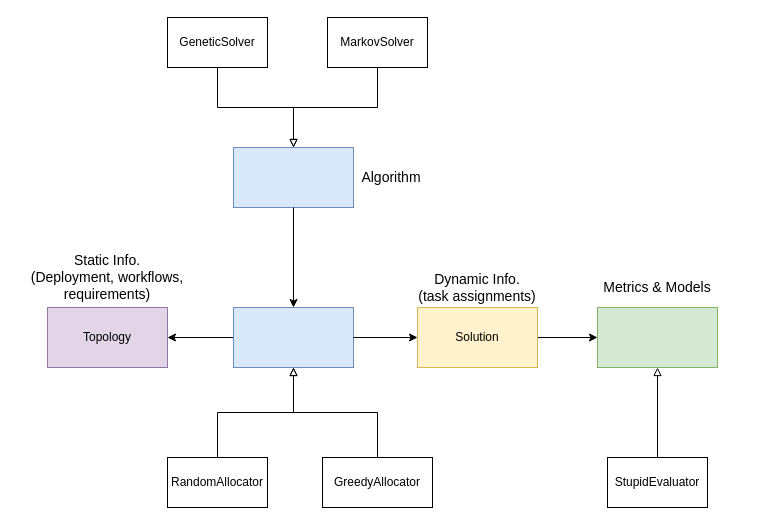
Image size: 764x525. Some labels were removed from this diagram. Here are the shapes that lost their labels. From the top down, the centre of each, then its label:
At (293,177): "Solver".
At (293,337): "Allocator".
At (657,337): "Evaluator".
